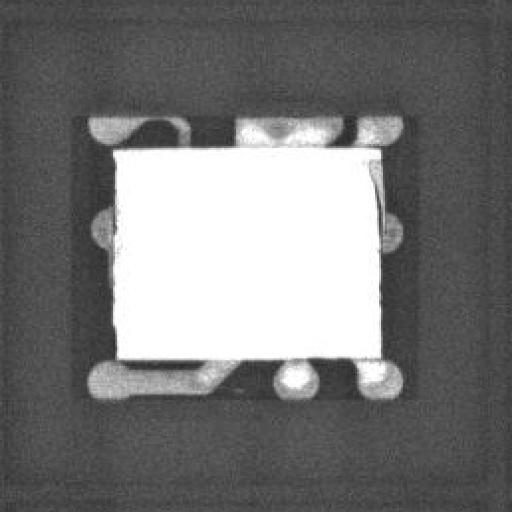DIE_BROKEN: (107, 152, 117, 358), (363, 152, 381, 266)
